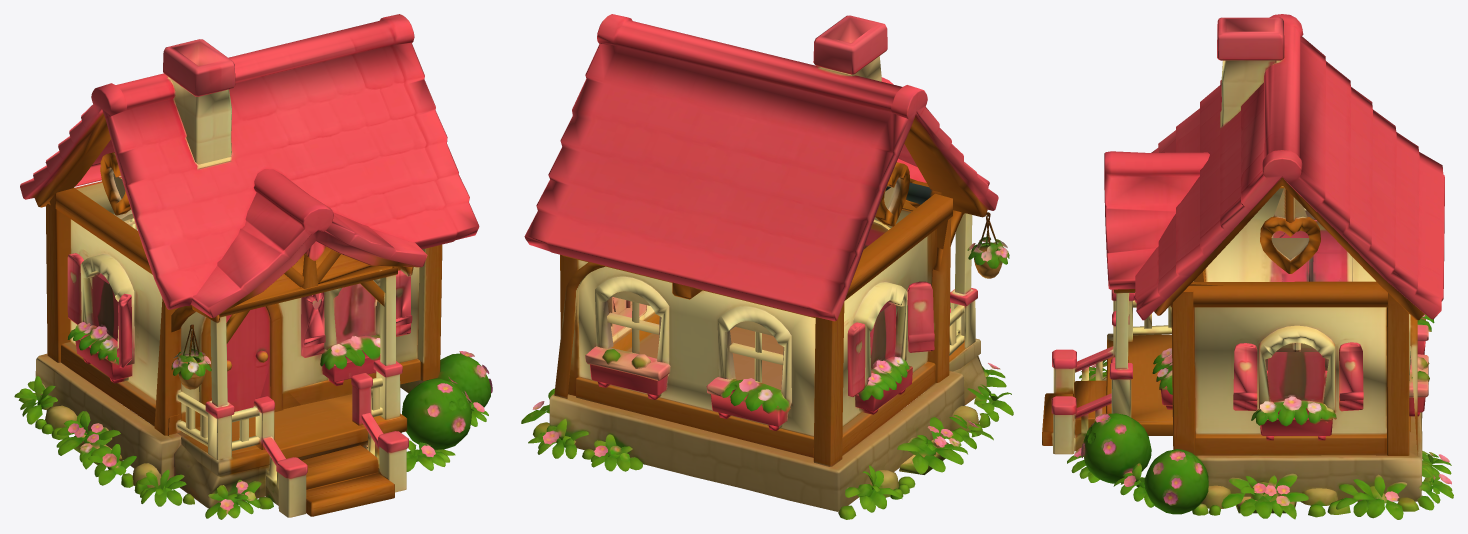
3 views of the same model, side by side, from view 1: azimuth 30°, elevation 25°; view 2: azimuth 150°, elevation 25°; view 3: azimuth 270°, elevation 25° (orthographic). The views are drawn at different scales.
Visible parts, largest first — view 1: house-tier2; view 2: house-tier2; view 3: house-tier2.
Boxes of the visible parts, left/top/right/bottom form: house-tier2: left=14, top=14, right=492, bottom=519; house-tier2: left=521, top=14, right=1013, bottom=519; house-tier2: left=1042, top=14, right=1453, bottom=519.
Bounding box in the file's own units: 5.75 × 5.66 × 5.56.
Materials: 1 (1 with a texture image).
